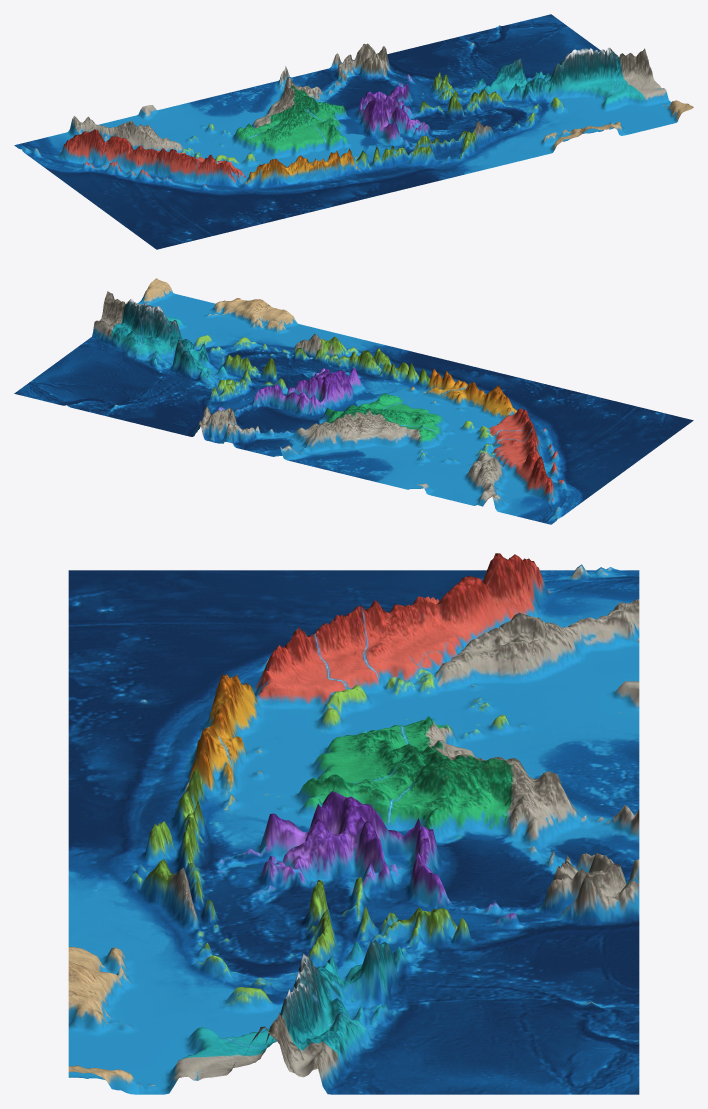
The model's file is Peta_Timbul_Indonesia.glb.
3 renders of one model, top to bottom at view 1: azimuth 30°, elevation 25°; view 2: azimuth 150°, elevation 25°; view 3: azimuth 270°, elevation 25°, orthographic. The views are drawn at different scales.
Parts seen in each view (by area): view 1: Peta_Timbul_3D_Indonesia; view 2: Peta_Timbul_3D_Indonesia; view 3: Peta_Timbul_3D_Indonesia.
Part boxes in pixels (<box>): Peta_Timbul_3D_Indonesia: <box>14,14,693,249</box>; Peta_Timbul_3D_Indonesia: <box>14,278,693,524</box>; Peta_Timbul_3D_Indonesia: <box>68,553,639,1094</box>.
Bounding box in the file's own units: 36 × 2.62 × 16.56.
1 material, 1 textured.
